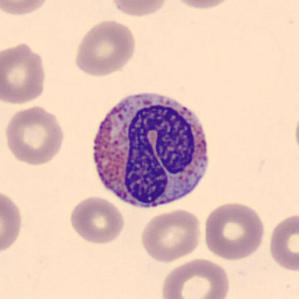Eosinophil: (84, 83, 217, 215)
RBC: (71, 17, 138, 78), (3, 104, 68, 166), (201, 200, 267, 261), (138, 207, 204, 263), (0, 40, 49, 106), (159, 256, 232, 299), (67, 194, 126, 246), (266, 210, 299, 273), (0, 187, 25, 256), (107, 0, 172, 18), (0, 0, 53, 17), (169, 0, 240, 11), (292, 104, 299, 165)
